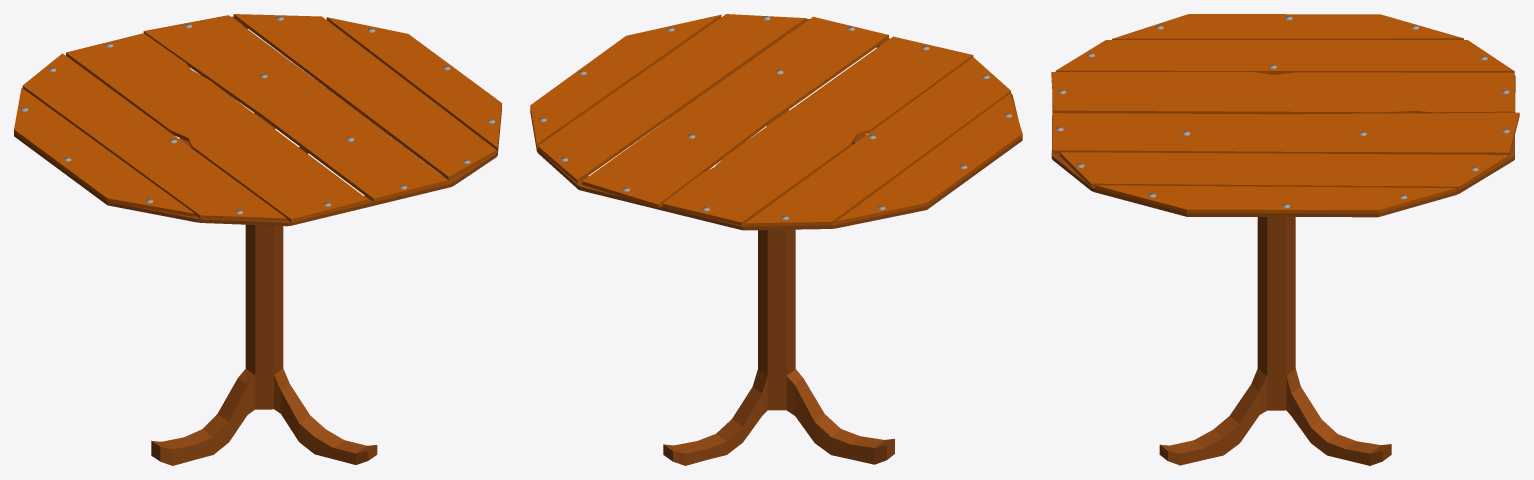
File: Table3.fbx
3 views of the same model, side by side, from view 1: azimuth 30°, elevation 25°; view 2: azimuth 150°, elevation 25°; view 3: azimuth 270°, elevation 25° (orthographic).
Visible parts, largest first — view 1: Table3; view 2: Table3; view 3: Table3.
Boxes of the visible parts, x1,y1,x2,y2 form: Table3: (14,14,501,465); Table3: (530,14,1022,465); Table3: (1051,14,1519,465).
Bounding box in the file's own units: 696 × 540 × 702.
